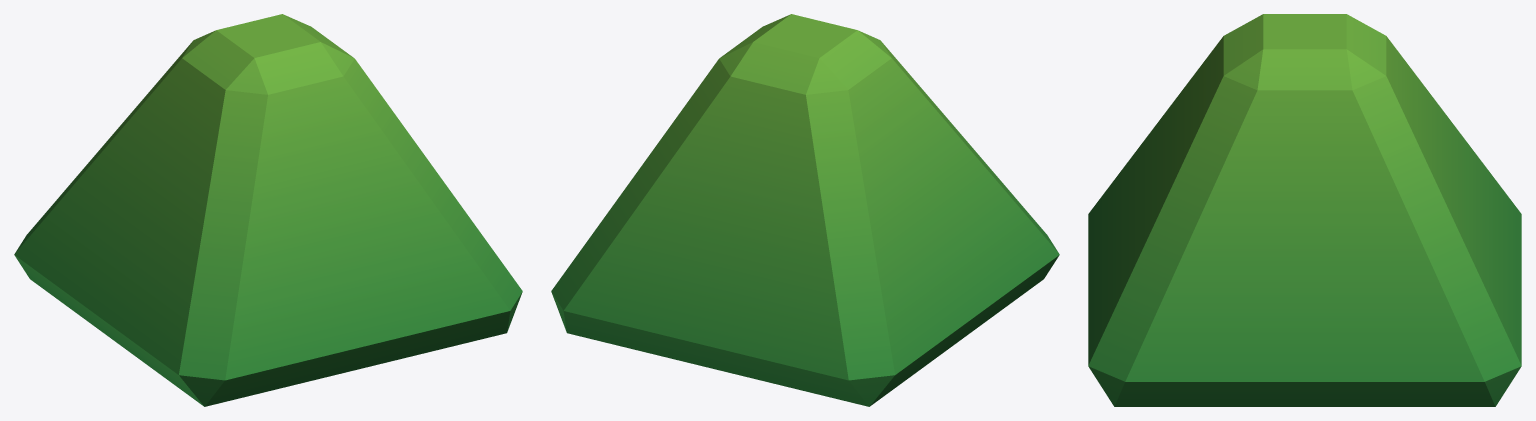
Rendered from kf_bush_4_b.fbx.
3 views of the same model, side by side, from view 1: azimuth 30°, elevation 25°; view 2: azimuth 150°, elevation 25°; view 3: azimuth 270°, elevation 25° (orthographic). The views are drawn at different scales.
Visible parts, largest first — view 1: kf_bush_4_b; view 2: kf_bush_4_b; view 3: kf_bush_4_b.
Part boxes in pixels (x1=…): kf_bush_4_b: x1=14, y1=14, x2=522, y2=406; kf_bush_4_b: x1=551, y1=14, x2=1059, y2=406; kf_bush_4_b: x1=1088, y1=14, x2=1521, y2=406.
Size of the model in its own units: 1.59 by 1.19 by 1.59.
1 material, 1 textured.
